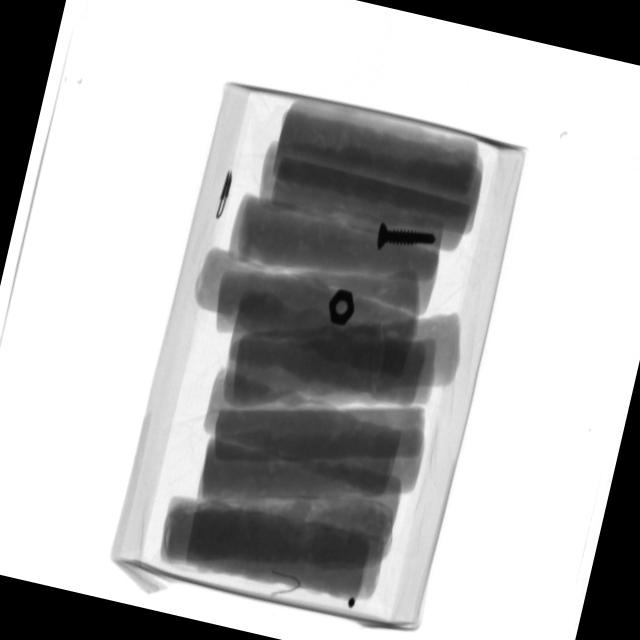ym: (376, 220, 439, 263), (326, 289, 358, 328), (267, 569, 304, 602), (216, 168, 236, 222), (348, 599, 359, 611)
